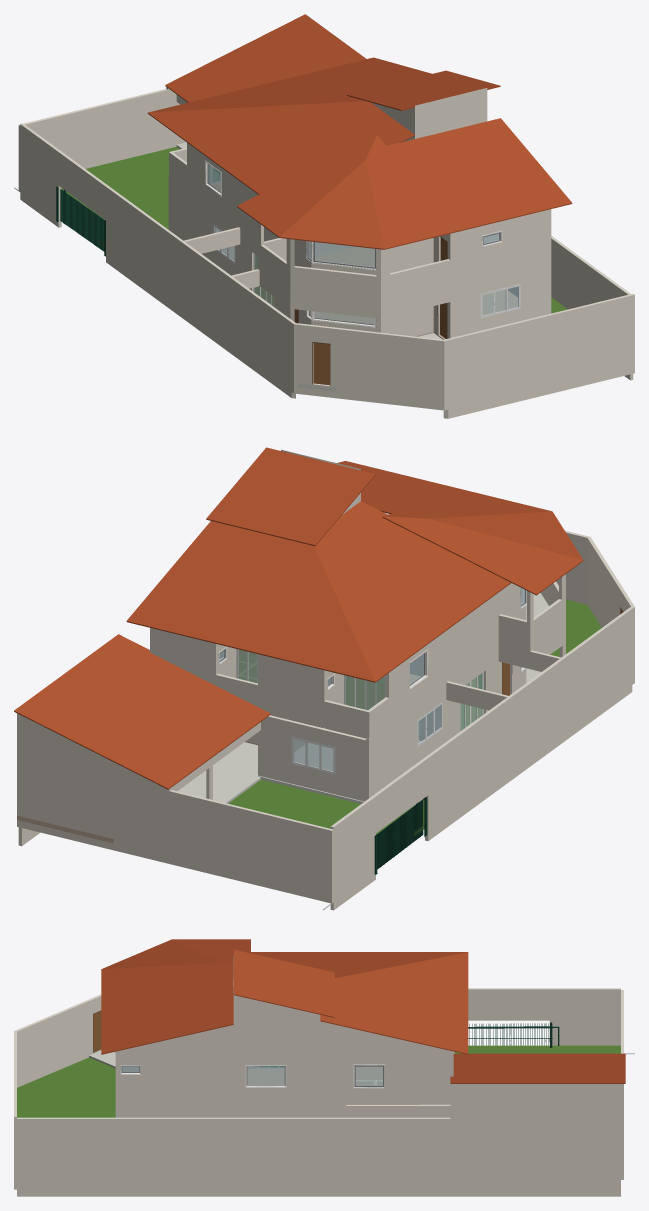
The model's file is modelo-casa.glb.
The picture shows the model from 3 angles, top to bottom: view 1: azimuth 30°, elevation 25°; view 2: azimuth 150°, elevation 25°; view 3: azimuth 270°, elevation 25°; orthographic projection. The views are drawn at different scales.
Visible parts, largest first — view 1: IfcWall/Parede básica:Parede Básica 150mm:299962, IfcBuildingElementProxyType/Landscaping-Fencing- KOPAL-Slidi; view 2: IfcWall/Parede básica:Parede Básica 150mm:299962, IfcBuildingElementProxyType/Landscaping-Fencing- KOPAL-Slidi; view 3: IfcWall/Parede básica:Parede Básica 150mm:299962, IfcBuildingElementProxyType/Landscaping-Fencing- KOPAL-Slidi.
Part boxes in pixels (<box>): IfcWall/Parede básica:Parede Básica 150mm:299962: <box>18,14,634,418</box>; IfcBuildingElementProxyType/Landscaping-Fencing- KOPAL-Slidi: <box>14,186,105,256</box>; IfcWall/Parede básica:Parede Básica 150mm:299962: <box>14,447,634,910</box>; IfcBuildingElementProxyType/Landscaping-Fencing- KOPAL-Slidi: <box>323,797,427,910</box>; IfcWall/Parede básica:Parede Básica 150mm:299962: <box>14,939,625,1196</box>; IfcBuildingElementProxyType/Landscaping-Fencing- KOPAL-Slidi: <box>468,1022,634,1054</box>.
Size of the model in its own units: 15.16 by 10.68 by 30.54.
